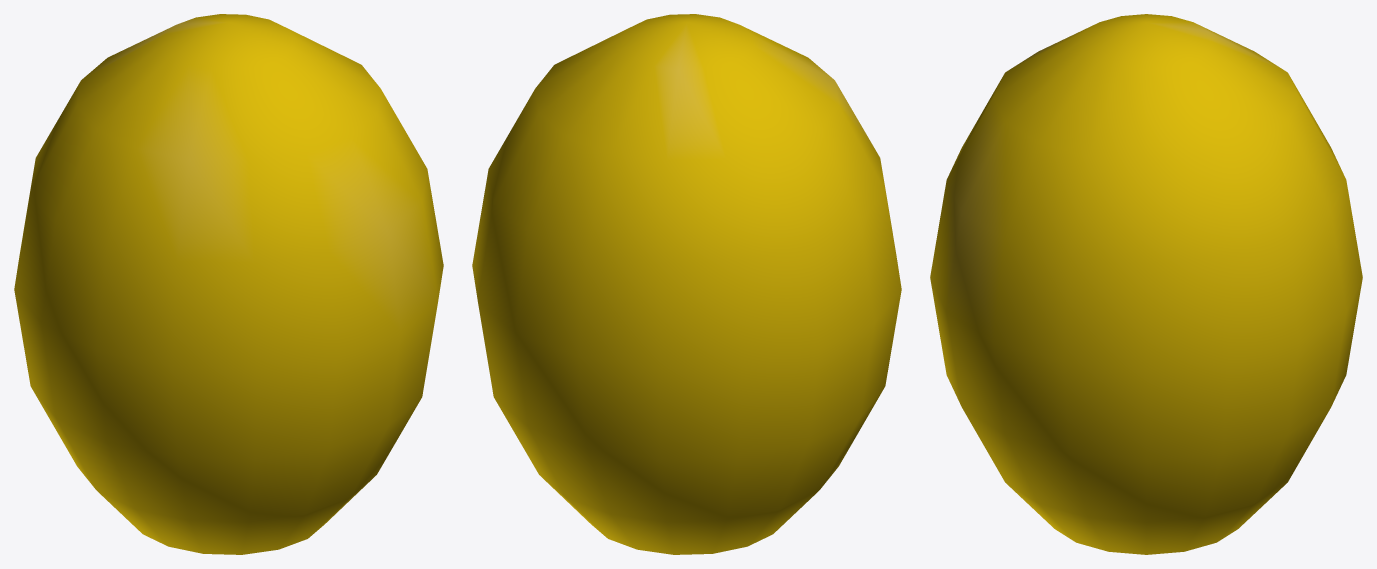
File: egg.obj
3 views of the same model, side by side, from view 1: azimuth 30°, elevation 25°; view 2: azimuth 150°, elevation 25°; view 3: azimuth 270°, elevation 25° (orthographic).
Parts seen in each view (by area): view 1: Sphere; view 2: Sphere; view 3: Sphere.
Boxes of the visible parts, x1=… form: Sphere: x1=14, y1=14, x2=443, y2=554; Sphere: x1=472, y1=14, x2=901, y2=554; Sphere: x1=930, y1=14, x2=1362, y2=554.
Size of the model in its own units: 2 by 2.6 by 2.
